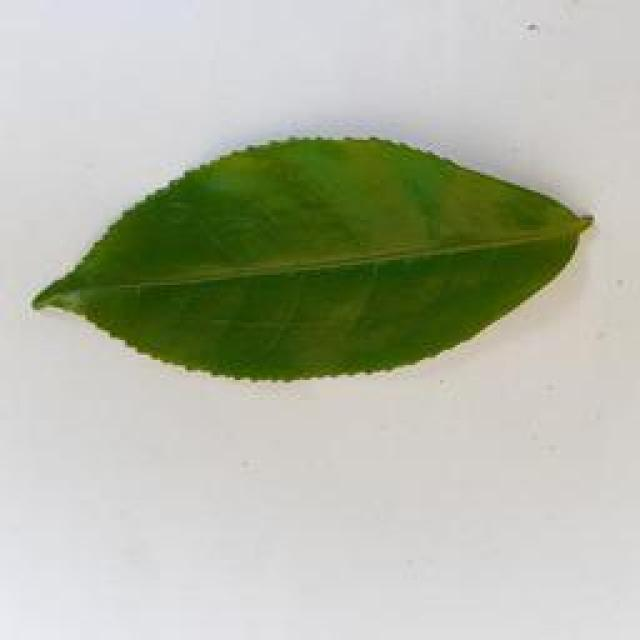Healthy: (18, 132, 604, 390)
